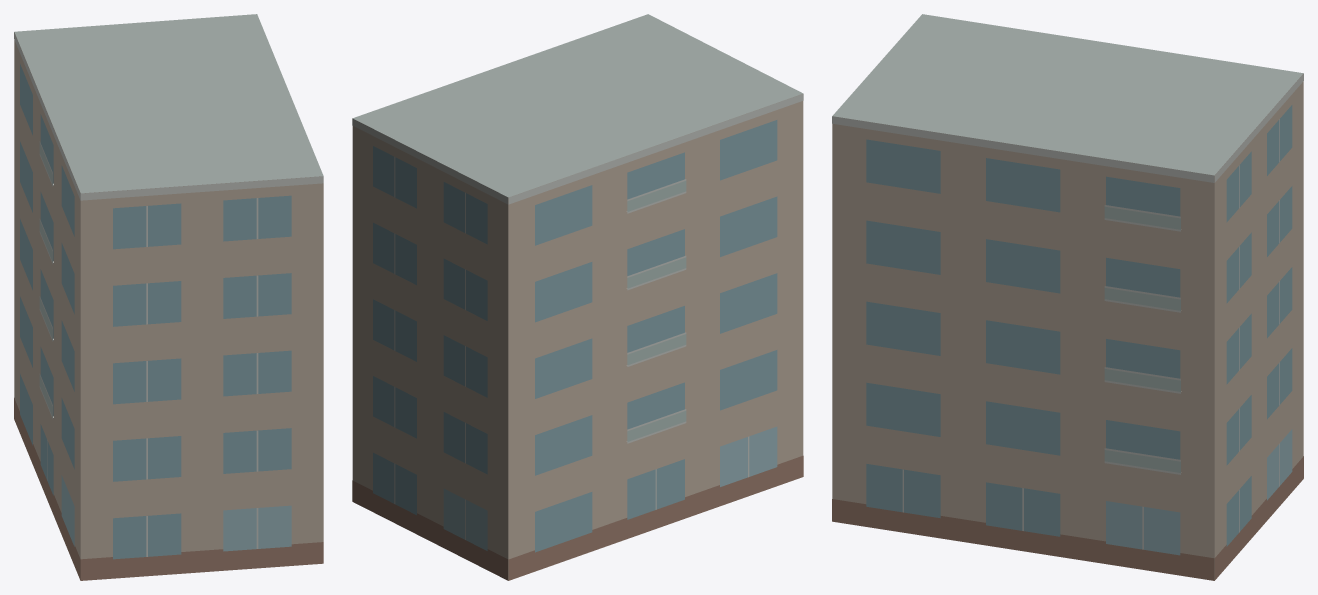
Rendered from survey-upis-32708230.glb.
3 renders of one model, left to right at view 1: azimuth 30°, elevation 25°; view 2: azimuth 150°, elevation 25°; view 3: azimuth 270°, elevation 25°, orthographic. The views are drawn at different scales.
Visible parts, largest first — view 1: survey-upis-32708230.tmp; view 2: survey-upis-32708230.tmp; view 3: survey-upis-32708230.tmp.
Boxes of the visible parts, x1,y1,x2,y2 form: survey-upis-32708230.tmp: (14,14,323,580); survey-upis-32708230.tmp: (352,14,803,580); survey-upis-32708230.tmp: (832,14,1303,580).
Bounding box in the file's own units: 11.15 × 13.05 × 13.77.
